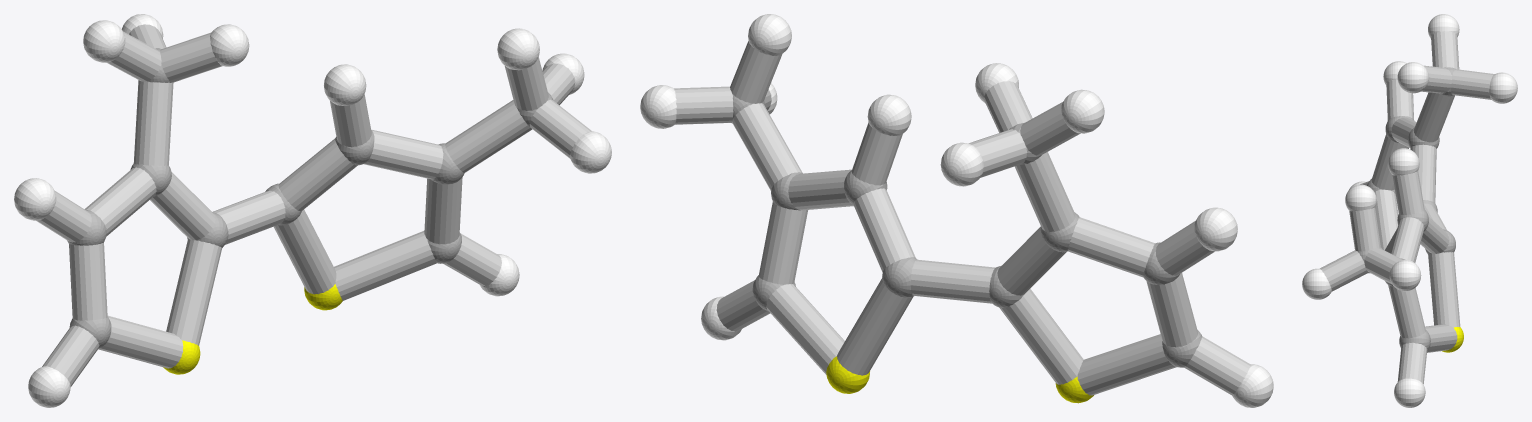
The model's file is Methylthiophene_Phi_30_Theta_210_Methylthiophene.glb.
The picture shows the model from 3 angles, left to right: view 1: azimuth 30°, elevation 25°; view 2: azimuth 150°, elevation 25°; view 3: azimuth 270°, elevation 25°; orthographic projection. The views are drawn at different scales.
Parts seen in each view (by area): view 1: grp7965, grp3621, grp1, grp7241; view 2: grp7965, grp3621, grp1, grp7241; view 3: grp7965, grp3621, grp1, grp7241.
Boxes of the visible parts, x1,y1,x2,y2 form: grp7965: (36, 24, 591, 386); grp3621: (14, 14, 611, 407); grp1: (67, 48, 553, 348); grp7241: (163, 284, 342, 374); grp7965: (674, 41, 1250, 395); grp3621: (640, 14, 1273, 407); grp1: (731, 94, 1202, 367); grp7241: (826, 356, 1093, 403); grp7965: (1320, 31, 1494, 384); grp3621: (1302, 14, 1517, 407); grp1: (1358, 67, 1455, 350); grp7241: (1442, 327, 1463, 352).
Size of the model in its own units: 9.41 by 5.37 by 4.09.
